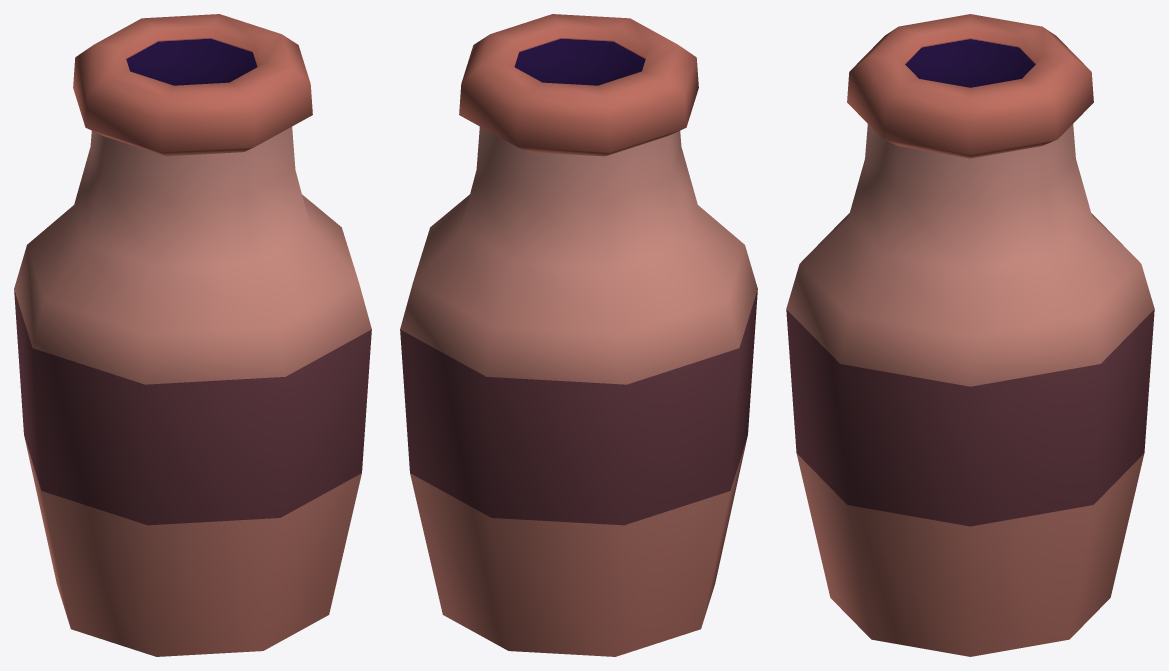
Rendered from Vase18.fbx.
3 views of the same model, side by side, from view 1: azimuth 30°, elevation 25°; view 2: azimuth 150°, elevation 25°; view 3: azimuth 270°, elevation 25° (orthographic).
Parts seen in each view (by area): view 1: Vase18; view 2: Vase18; view 3: Vase18.
Part boxes in pixels (x1,y1,x2,y2): Vase18: [14, 14, 371, 656]; Vase18: [400, 14, 757, 656]; Vase18: [786, 14, 1154, 656].
Size of the model in its own units: 52.56 by 85.1 by 52.56.
